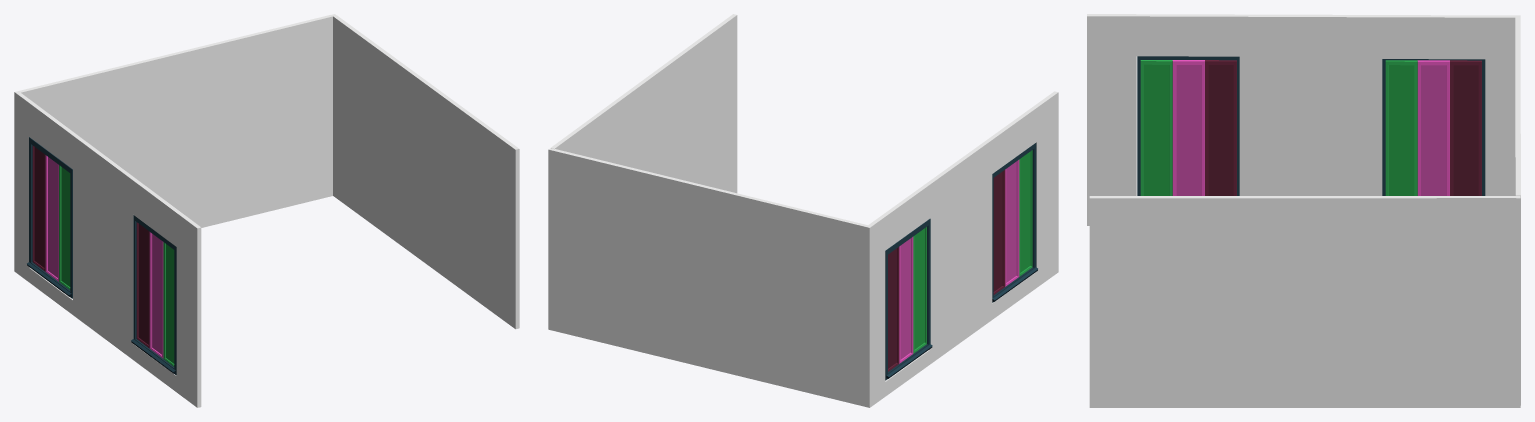
Rendered from wall.fbx.
3 views of the same model, side by side, from view 1: azimuth 30°, elevation 25°; view 2: azimuth 150°, elevation 25°; view 3: azimuth 270°, elevation 25° (orthographic). The views are drawn at different scales.
Visible parts, largest first — view 1: Wall.001; view 2: Wall.001; view 3: Wall.001.
Boxes of the visible parts, x1=… form: Wall.001: x1=14, y1=14, x2=519, y2=407; Wall.001: x1=548, y1=14, x2=1058, y2=407; Wall.001: x1=1087, y1=14, x2=1520, y2=407.
Size of the model in its own units: 819 by 432 by 810.
